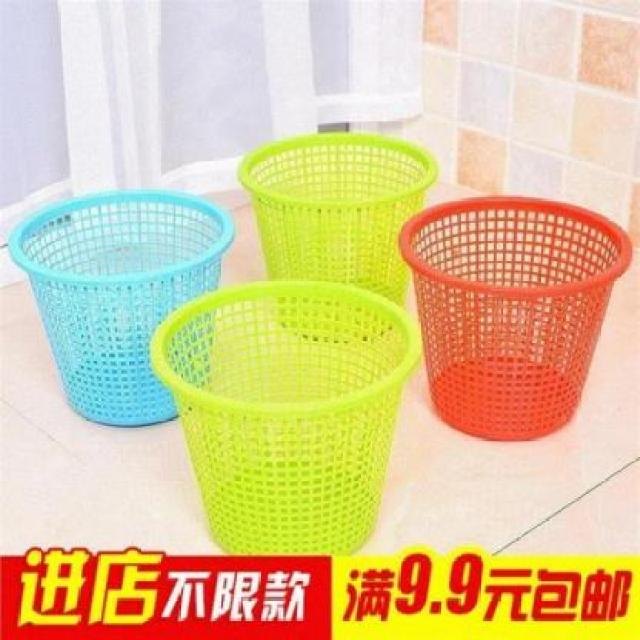dustbin: (144, 274, 426, 553), (395, 191, 637, 443), (5, 182, 240, 433), (235, 126, 444, 344)
